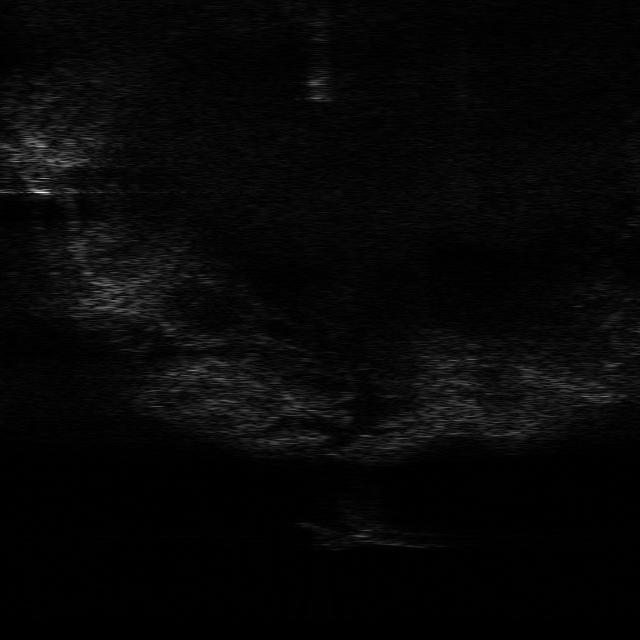plane: (295, 519, 435, 550)
